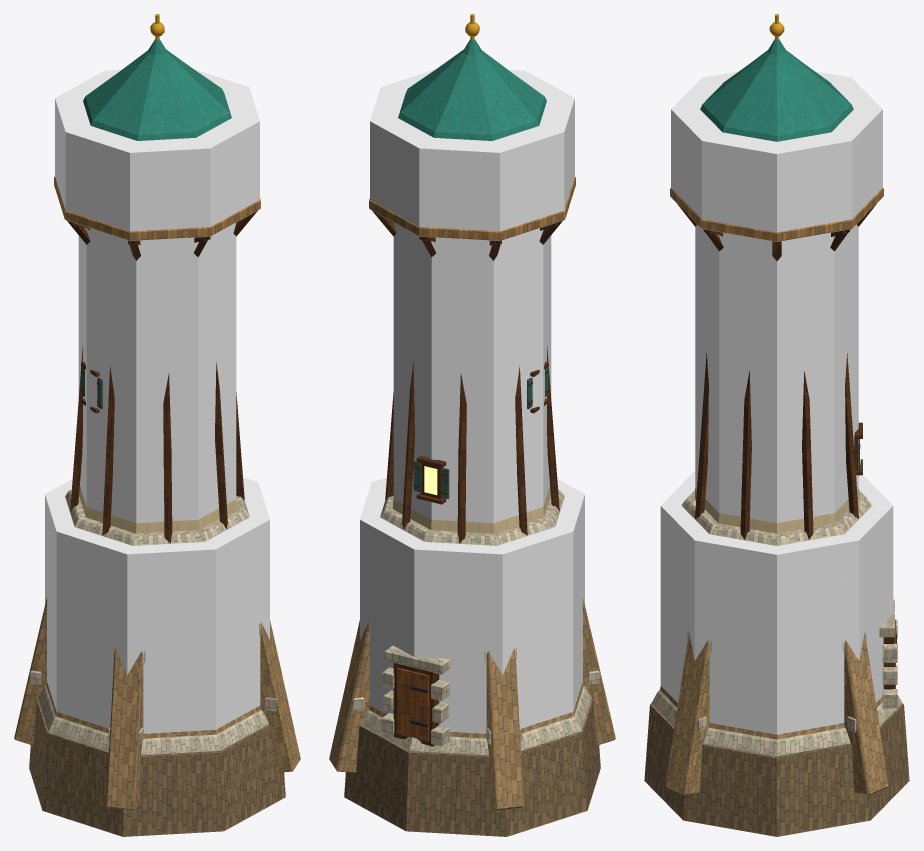
Rendered from beacon_tower.glb.
3 renders of one model, left to right at view 1: azimuth 30°, elevation 25°; view 2: azimuth 150°, elevation 25°; view 3: azimuth 270°, elevation 25°, orthographic.
Visible parts, largest first — view 1: BeaconTower, col_beacon_base, col_beacon_shaft, col_beacon_gallery; view 2: BeaconTower, col_beacon_shaft, col_beacon_base, col_beacon_gallery; view 3: BeaconTower, col_beacon_shaft, col_beacon_base, col_beacon_gallery.
Boxes of the visible parts, box(x1,y1,x2,y2) form: BeaconTower: box(14, 14, 300, 836); col_beacon_base: box(45, 477, 269, 733); col_beacon_shaft: box(78, 223, 236, 523); col_beacon_gallery: box(55, 69, 259, 241); BeaconTower: box(329, 14, 615, 836); col_beacon_shaft: box(393, 223, 551, 523); col_beacon_base: box(360, 477, 584, 733); col_beacon_gallery: box(370, 69, 574, 241); BeaconTower: box(644, 14, 909, 836); col_beacon_shaft: box(695, 224, 858, 523); col_beacon_base: box(660, 471, 893, 734); col_beacon_gallery: box(671, 71, 882, 241).
Bounding box in the file's own units: 7.64 × 24.35 × 7.64.
10 materials, 6 textured.
